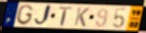5: (112, 7, 128, 29)
9: (95, 7, 111, 28)
G: (15, 5, 34, 26)
J: (33, 4, 53, 27)
K: (73, 7, 91, 28)
T: (58, 6, 73, 27)
